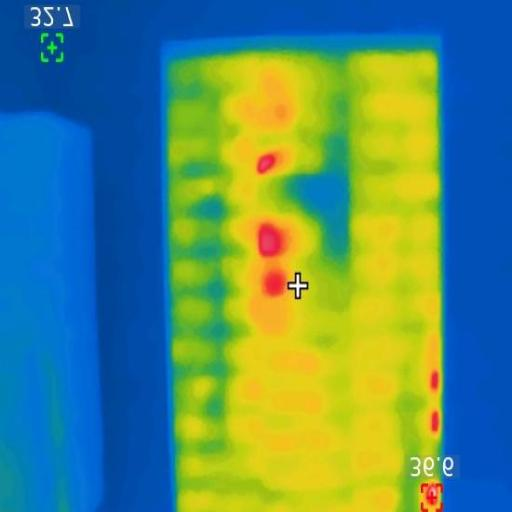hotspot: (255, 221, 287, 255), (258, 267, 288, 300), (256, 149, 285, 176), (422, 482, 445, 510), (428, 407, 444, 437), (429, 367, 443, 395)
